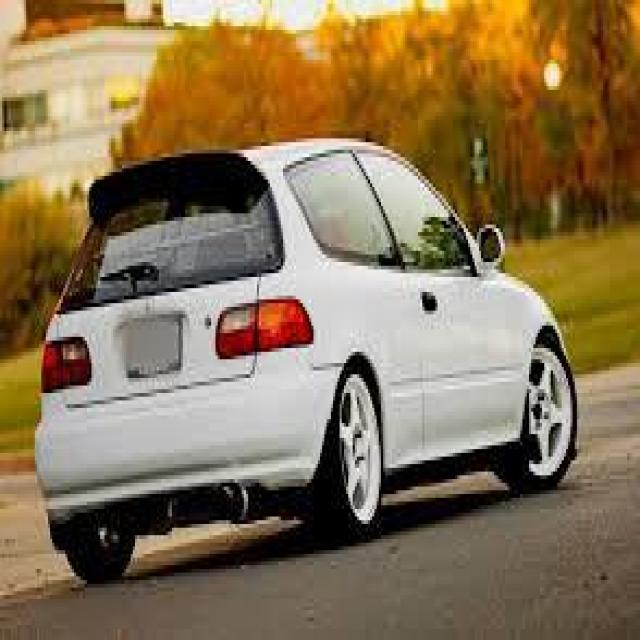back_bumper: (32, 342, 344, 512)
back_glass: (58, 173, 283, 310)
back_left_light: (42, 338, 92, 392)
back_right_light: (216, 300, 317, 357)
front_right_door: (351, 144, 509, 451)
right_mirror: (477, 222, 509, 272)
trunk: (61, 277, 257, 406)
wheel: (334, 367, 383, 538), (527, 335, 578, 487)
